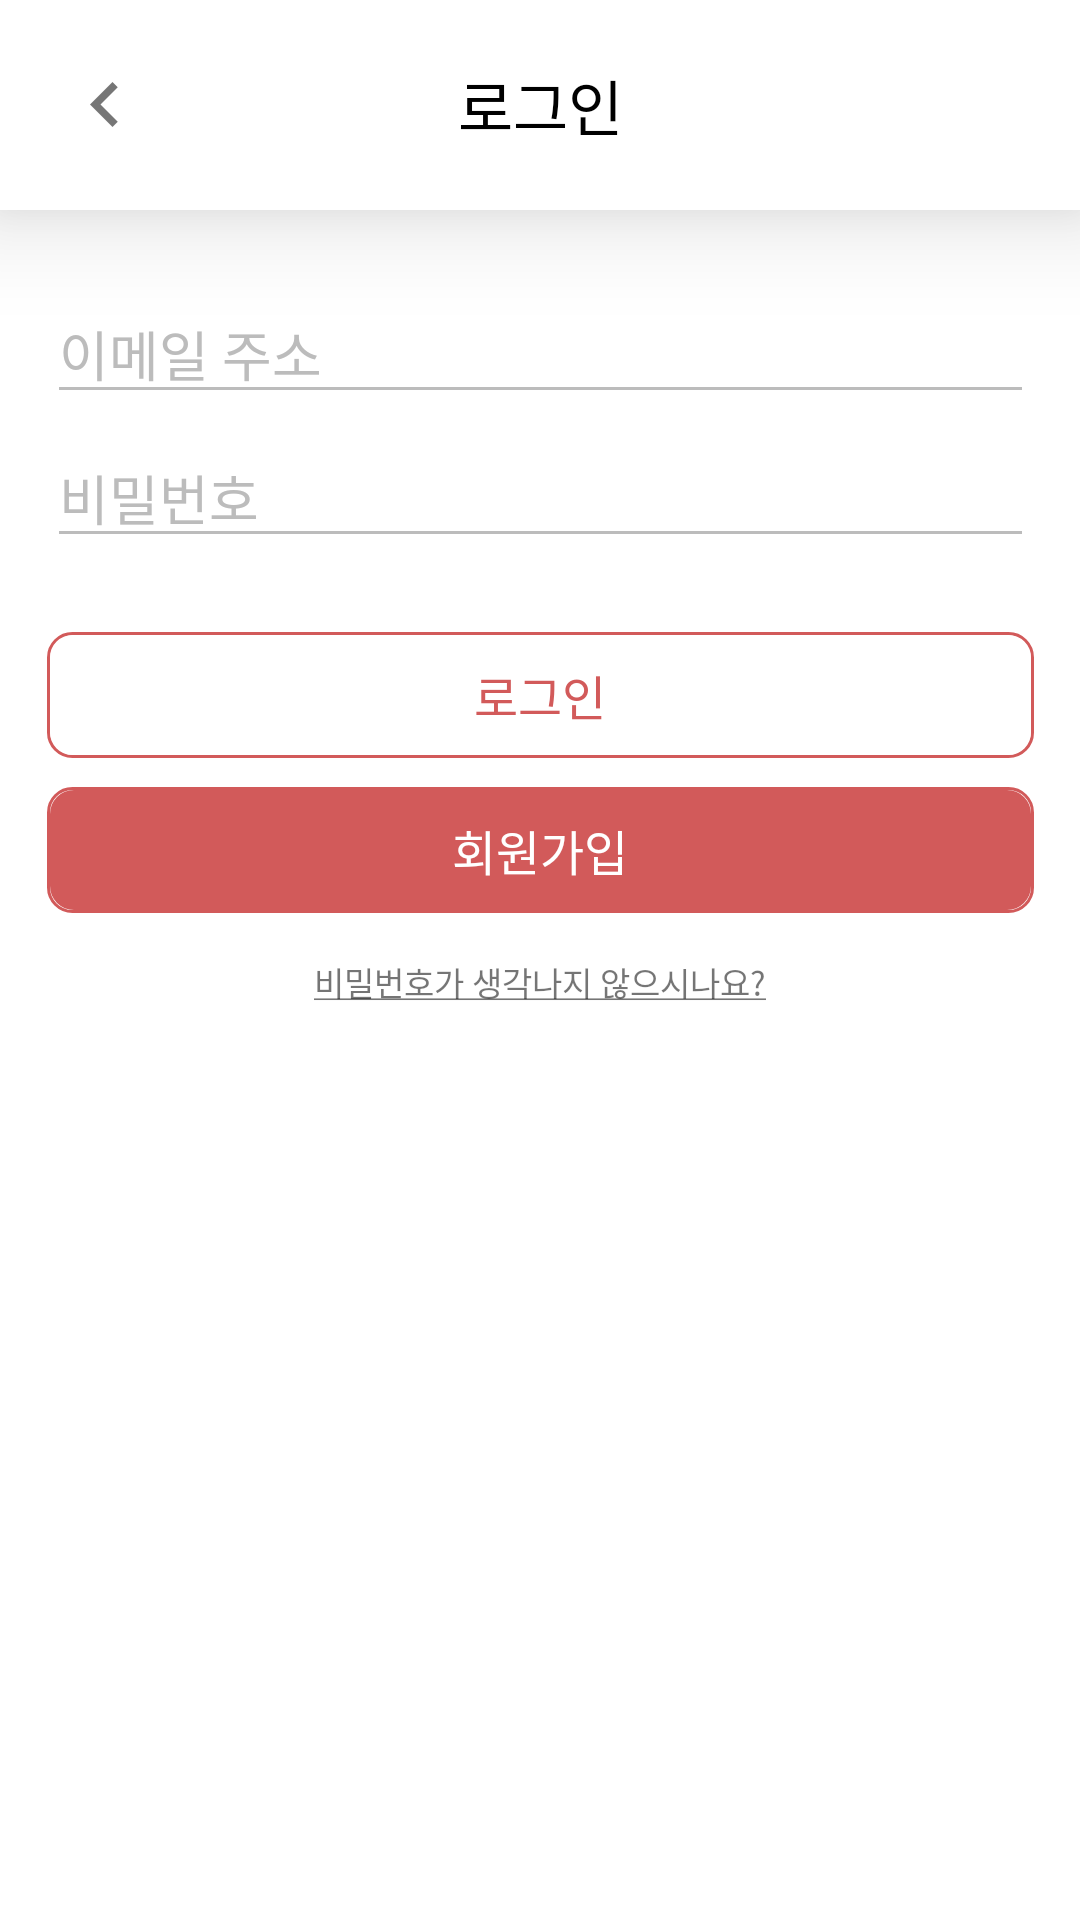

Icons on this 1080 × 1920 Android screen, each with the point to tap as [x,y]:
back: [104,104]
